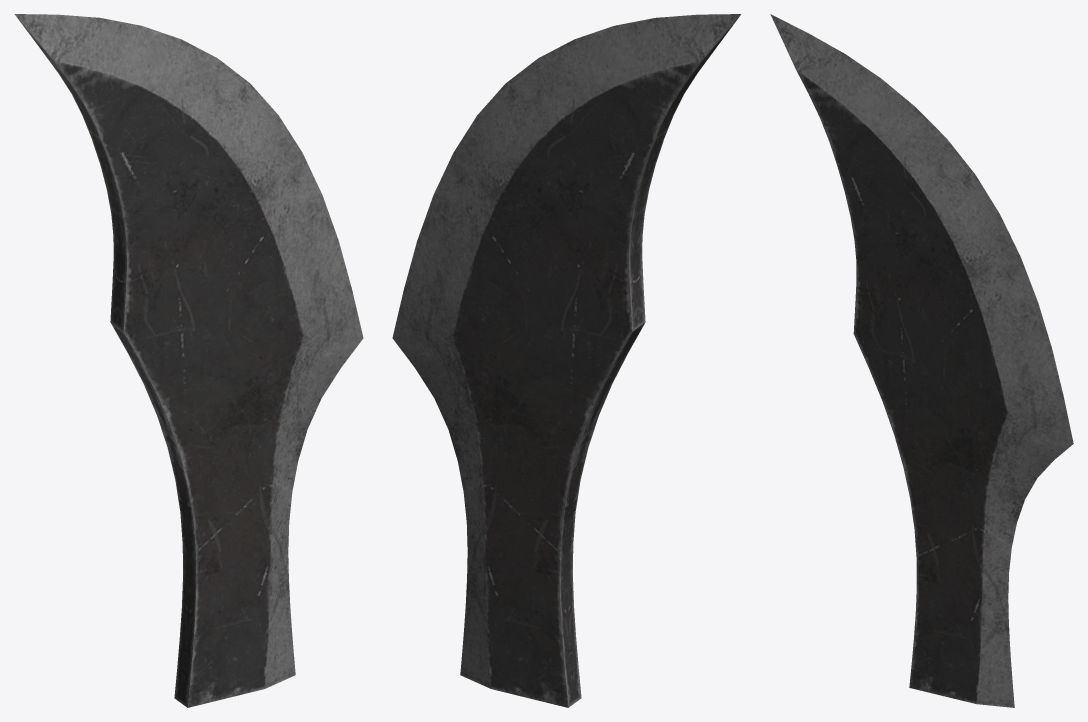
The model's file is sm_uruk_halberd_blade_a3.fbx.
3 renders of one model, left to right at view 1: azimuth 30°, elevation 25°; view 2: azimuth 150°, elevation 25°; view 3: azimuth 330°, elevation 25°, orthographic. The views are drawn at different scales.
Parts seen in each view (by area): view 1: sm_uruk_halberd_blade_a3; view 2: sm_uruk_halberd_blade_a3; view 3: sm_uruk_halberd_blade_a3.
Boxes of the visible parts, box(x1,y1,x2,y2) form: sm_uruk_halberd_blade_a3: box(14, 14, 363, 707); sm_uruk_halberd_blade_a3: box(392, 14, 741, 707); sm_uruk_halberd_blade_a3: box(770, 14, 1073, 707).
Size of the model in its own units: 0.3 by 0.0241 by 0.5993.
1 material, 1 textured.
